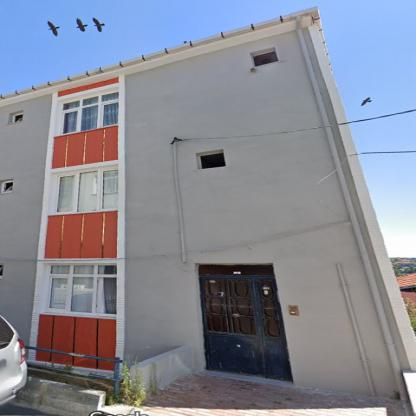door: (203, 276, 288, 380)
window: (49, 265, 116, 314), (57, 167, 117, 212), (59, 90, 118, 134), (253, 50, 278, 66), (201, 152, 225, 168), (2, 182, 12, 192), (13, 112, 22, 122)
